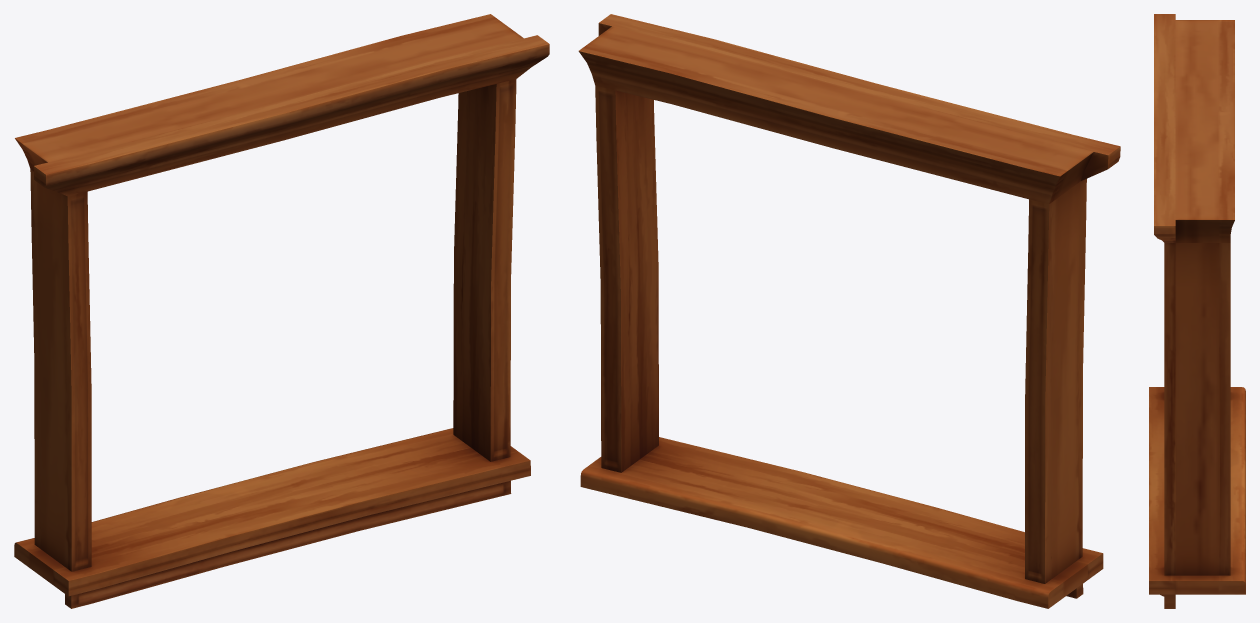
The model's file is PropWindow01TypeB_1_1.FBX.
The picture shows the model from 3 angles, left to right: view 1: azimuth 30°, elevation 25°; view 2: azimuth 150°, elevation 25°; view 3: azimuth 270°, elevation 25°; orthographic projection. The views are drawn at different scales.
Parts seen in each view (by area): view 1: PropWindow01TypeB_1_1; view 2: PropWindow01TypeB_1_1; view 3: PropWindow01TypeB_1_1.
Boxes of the visible parts, <box> form: PropWindow01TypeB_1_1: <box>14,14,549,608</box>; PropWindow01TypeB_1_1: <box>578,14,1120,608</box>; PropWindow01TypeB_1_1: <box>1149,14,1245,608</box>.
Size of what is drawn, in the model's own units: 2.38 by 2.05 by 0.4449.
